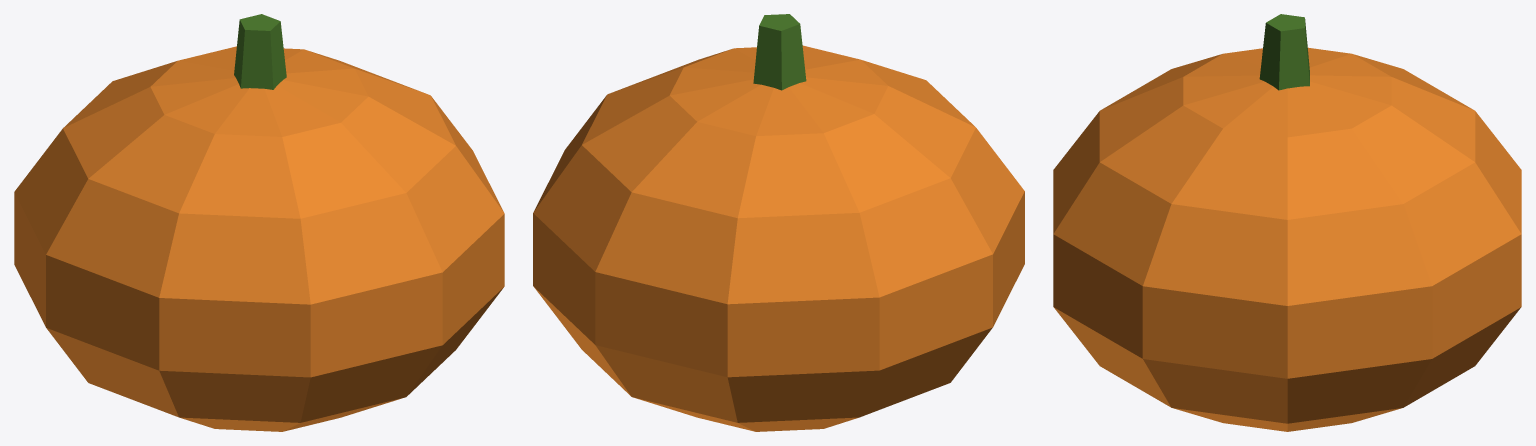
Rendered from market_veggie_pumpkin.glb.
3 views of the same model, side by side, from view 1: azimuth 30°, elevation 25°; view 2: azimuth 150°, elevation 25°; view 3: azimuth 270°, elevation 25° (orthographic).
Parts seen in each view (by area): view 1: veggie_market_veggie_pumpkin, veggie_veg_stem; view 2: veggie_market_veggie_pumpkin, veggie_veg_stem; view 3: veggie_market_veggie_pumpkin, veggie_veg_stem.
Boxes of the visible parts, x1,y1,x2,y2 form: veggie_market_veggie_pumpkin: (14,46,504,431); veggie_veg_stem: (234,14,286,89); veggie_market_veggie_pumpkin: (533,45,1024,431); veggie_veg_stem: (753,14,806,90); veggie_market_veggie_pumpkin: (1053,47,1521,431); veggie_veg_stem: (1259,14,1309,90).
Size of the model in its own units: 0.6824 by 0.58 by 0.649.
